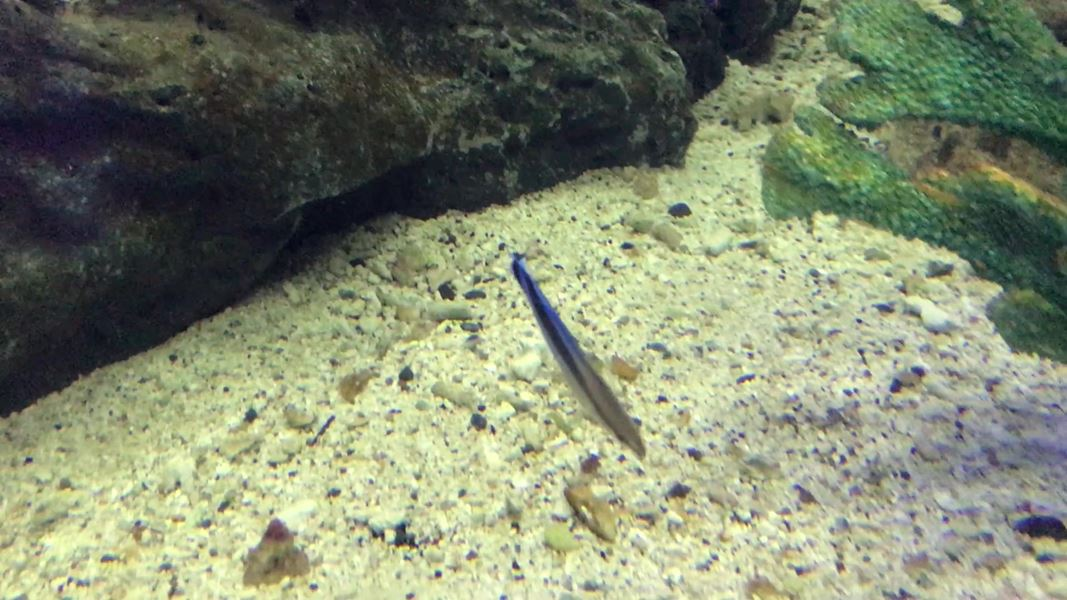Bluesteak cleaner wrasse: (502, 245, 657, 476)
